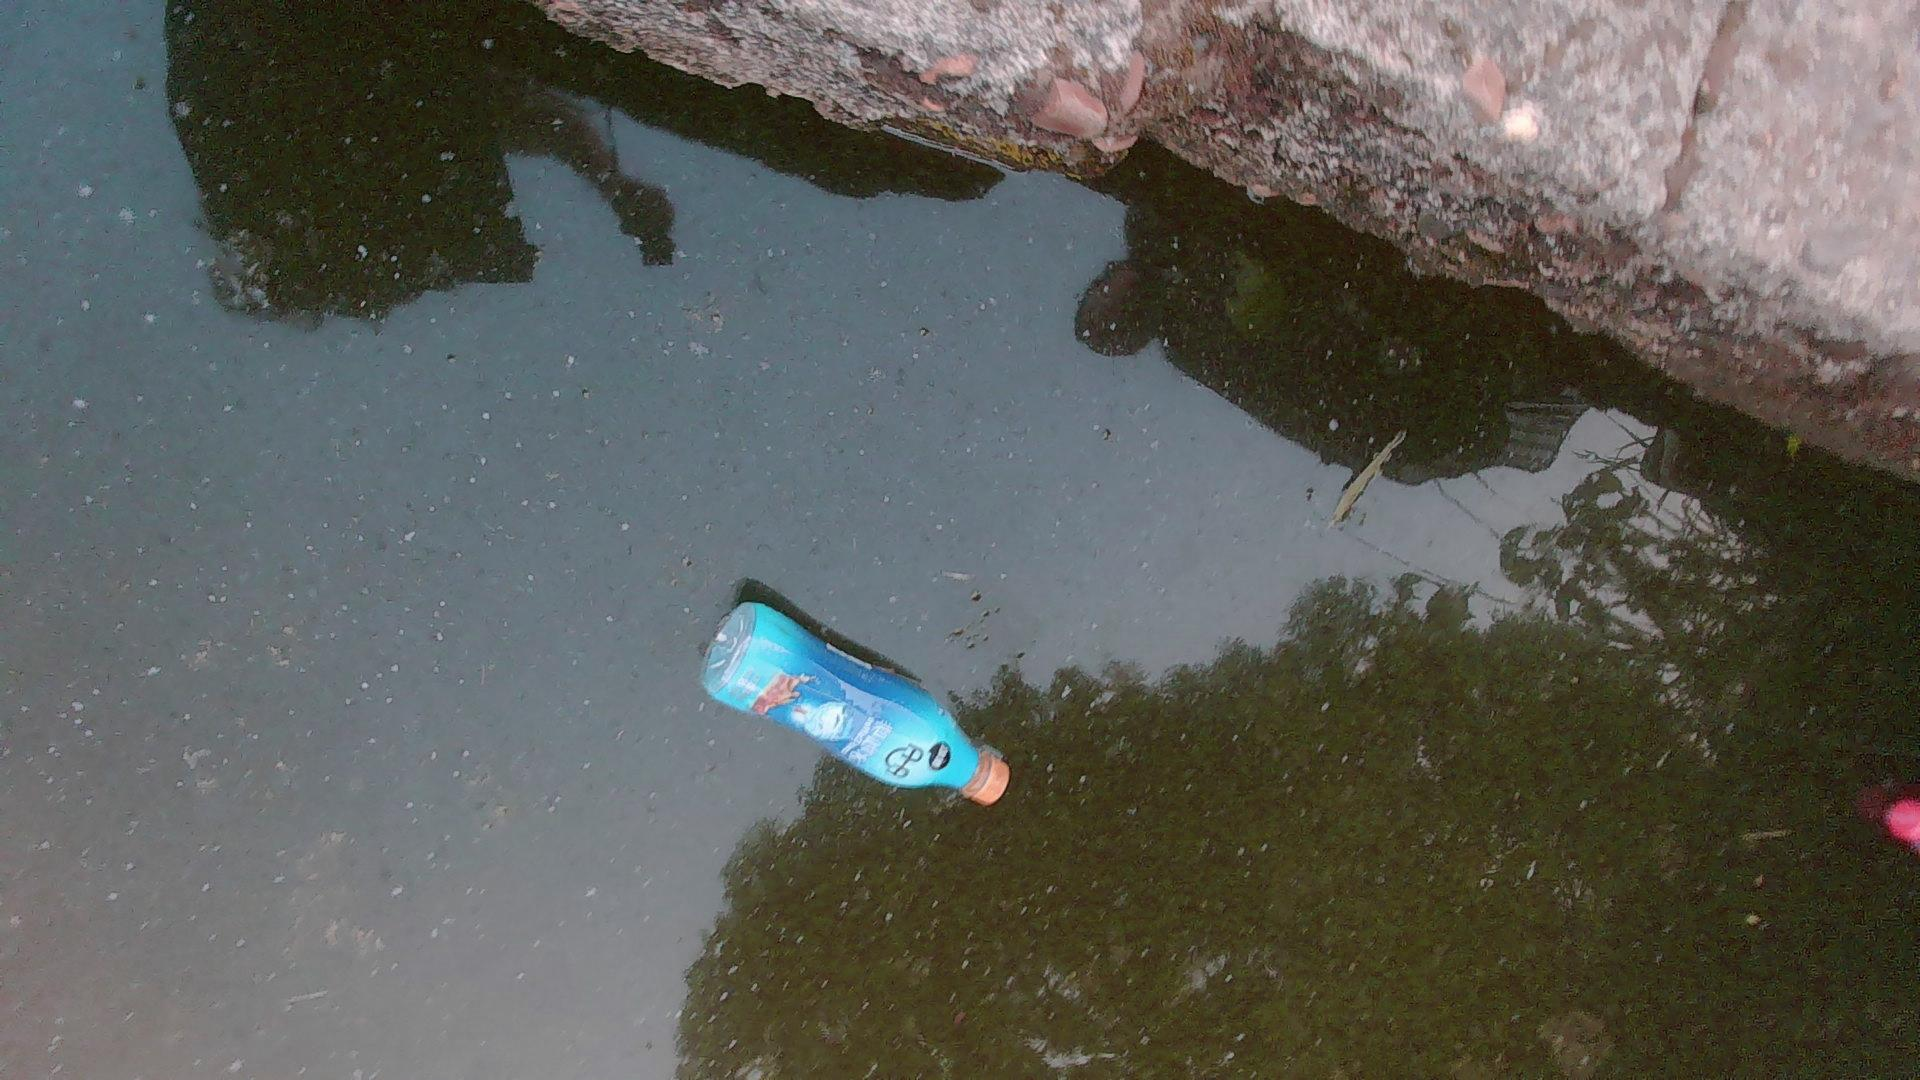Plastic: (691, 596, 1019, 815)
